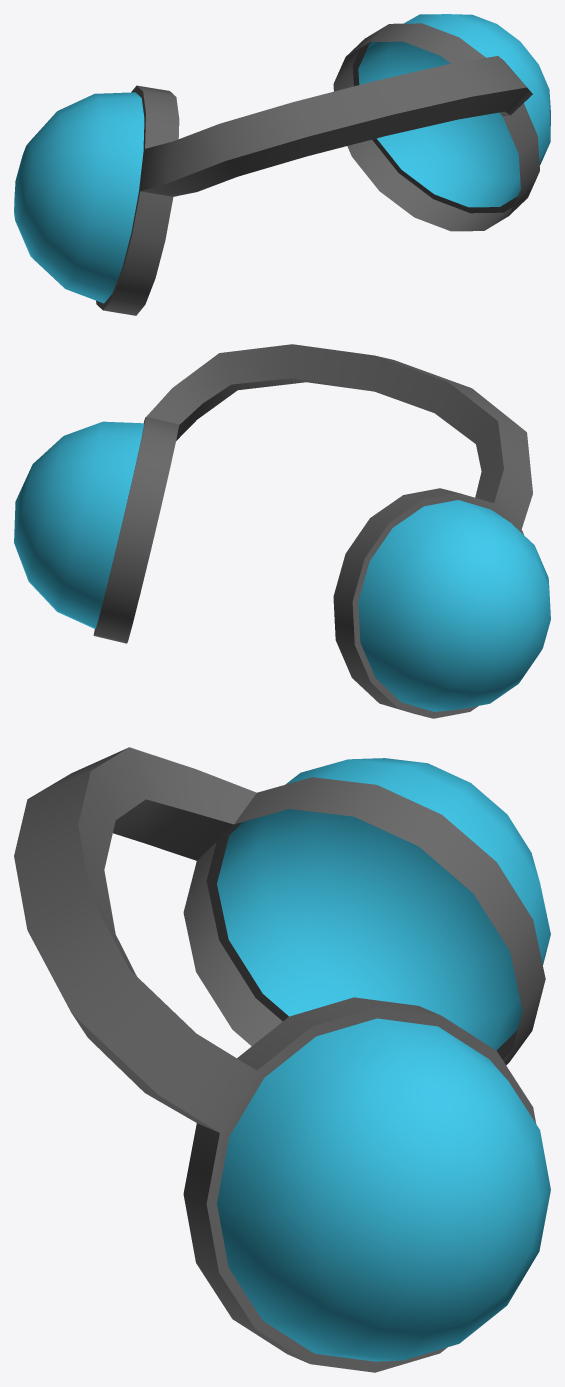
File: race_goggles.fbx
3 views of the same model, one above another, from view 1: azimuth 30°, elevation 25°; view 2: azimuth 150°, elevation 25°; view 3: azimuth 270°, elevation 25° (orthographic). The views are drawn at different scales.
Parts seen in each view (by area): view 1: race_goggles; view 2: race_goggles; view 3: race_goggles.
Part boxes in pixels (bbox=[...]): race_goggles: bbox=[14, 14, 550, 315]; race_goggles: bbox=[14, 344, 550, 718]; race_goggles: bbox=[14, 747, 550, 1372].
Size of the model in its own units: 64.97 by 30.48 by 36.23.
